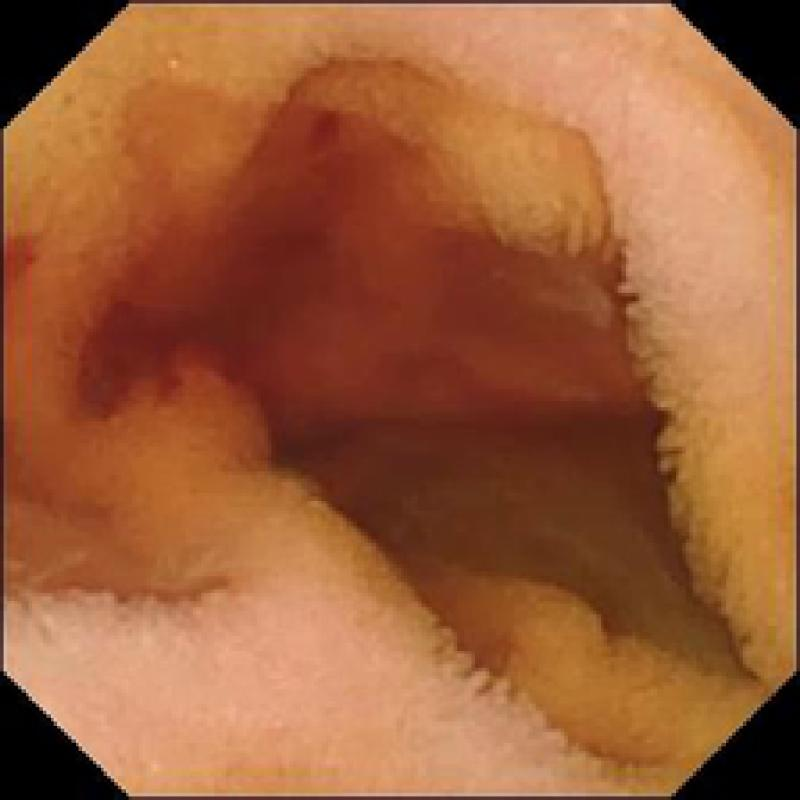bleeding: (61, 107, 414, 422), (5, 226, 45, 292)
